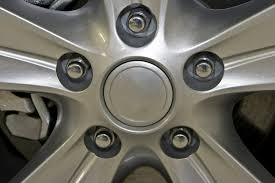l: (180, 53, 225, 89), (121, 5, 153, 37), (165, 124, 198, 155), (89, 125, 118, 156), (59, 57, 90, 84)
